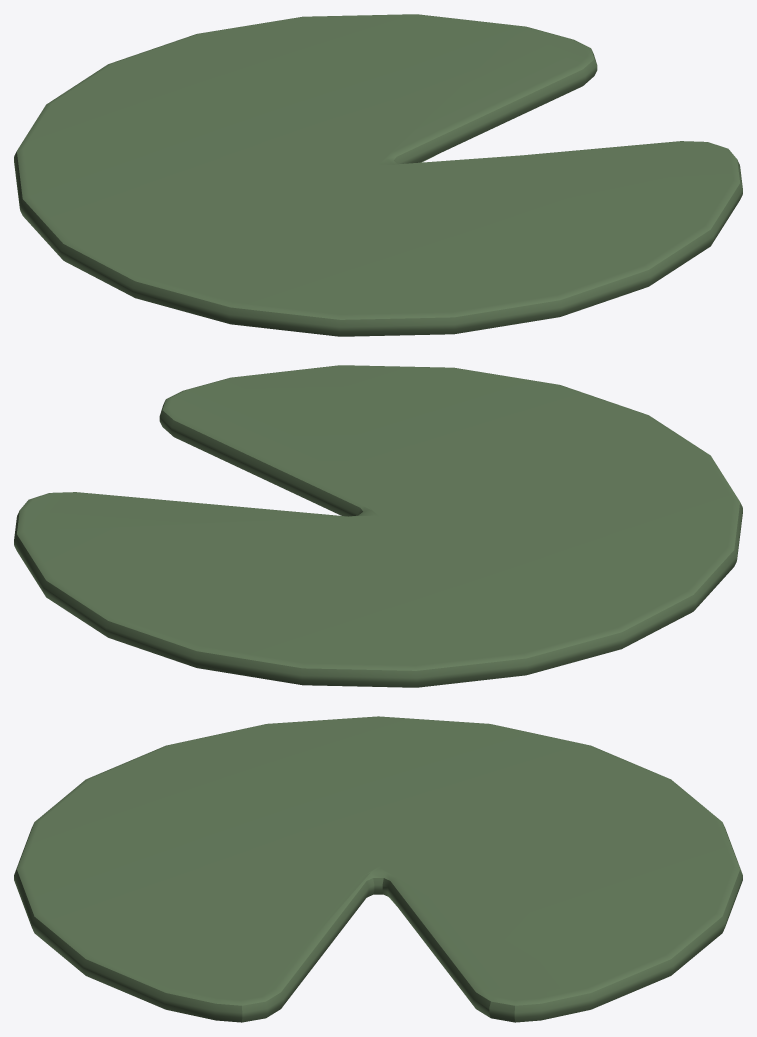
File: lilypad2.fbx
The picture shows the model from 3 angles, top to bottom: view 1: azimuth 30°, elevation 25°; view 2: azimuth 150°, elevation 25°; view 3: azimuth 270°, elevation 25°; orthographic projection.
Parts seen in each view (by area): view 1: pCylinder2; view 2: pCylinder2; view 3: pCylinder2.
Part boxes in pixels (x1,y1,x2,y2): pCylinder2: [14, 14, 742, 336]; pCylinder2: [14, 365, 742, 687]; pCylinder2: [14, 716, 742, 1022].
Bounding box in the file's own units: 17.94 × 0.6236 × 18.95.
